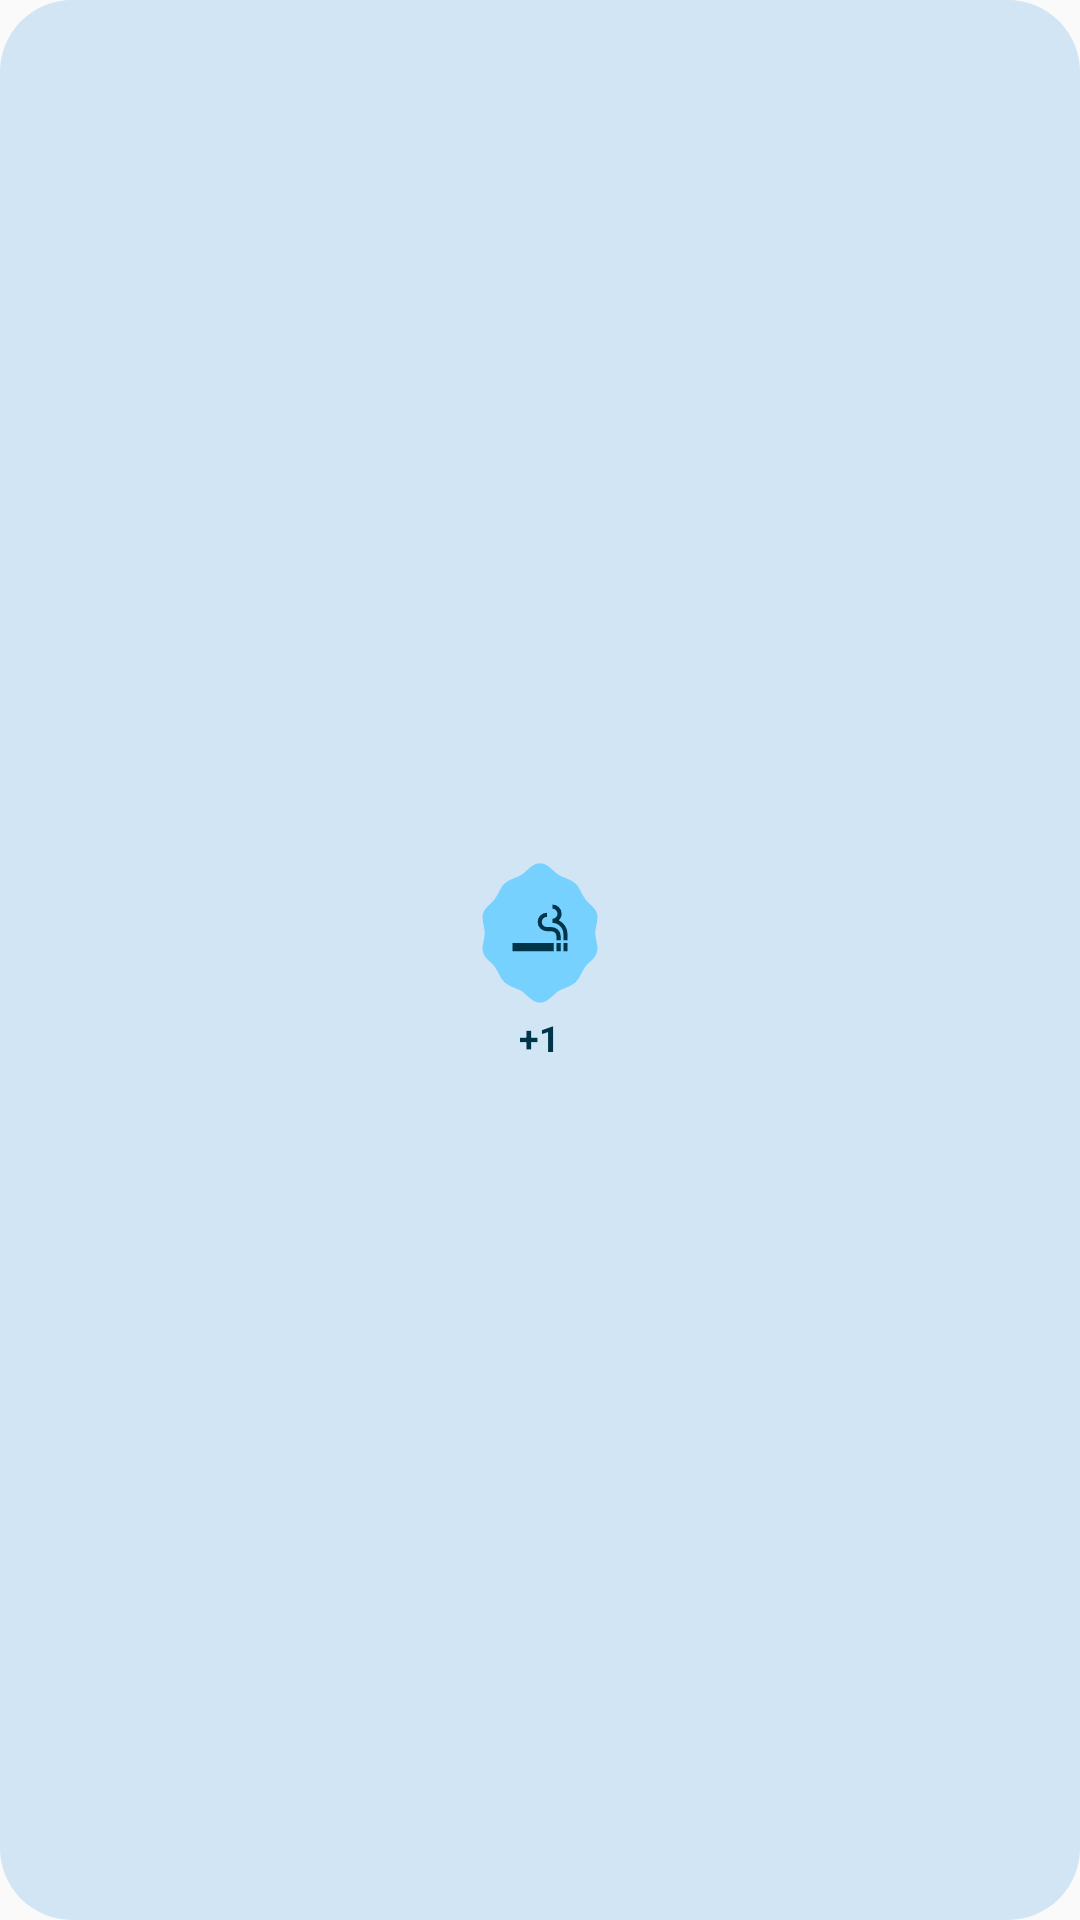

Named icons in this screenshot (1080px×1920px) and their bounding boxes, (x1, y1, x2, y2):
cigarettebase: (512, 904, 568, 952)
